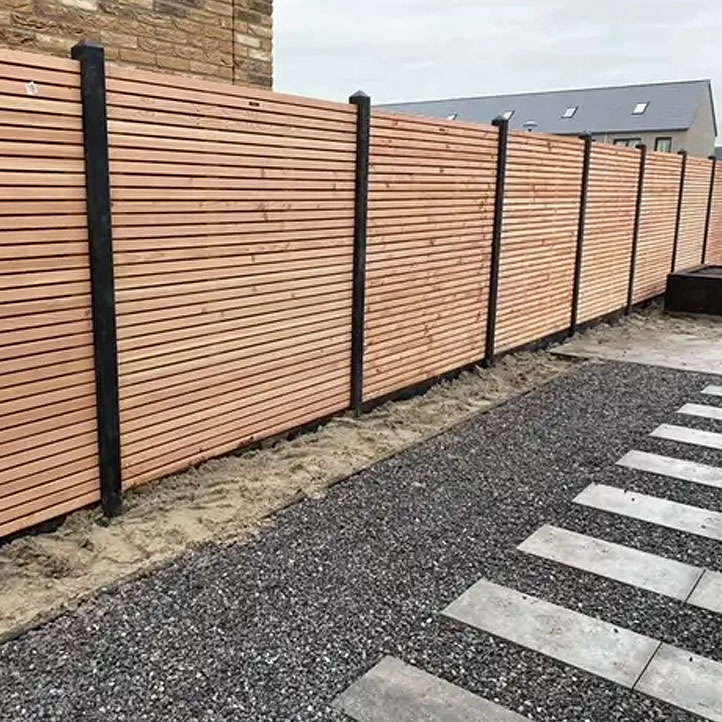Fence: (17, 59, 715, 370)
